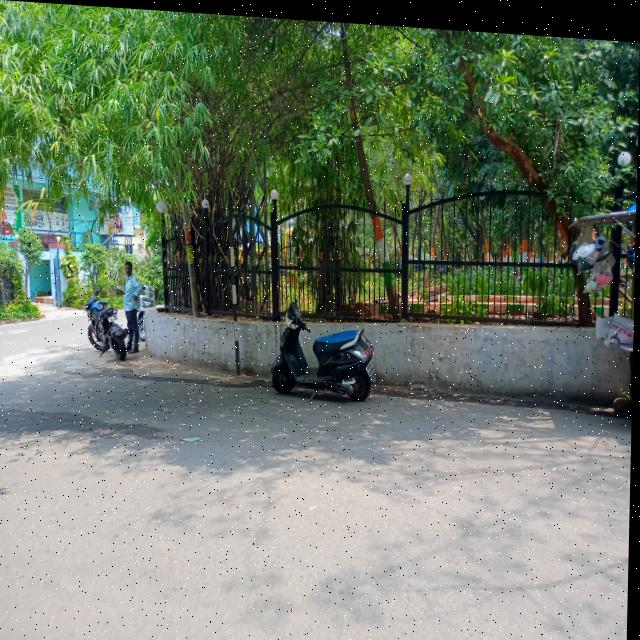bike: (273, 290, 382, 408), (81, 282, 133, 362)
